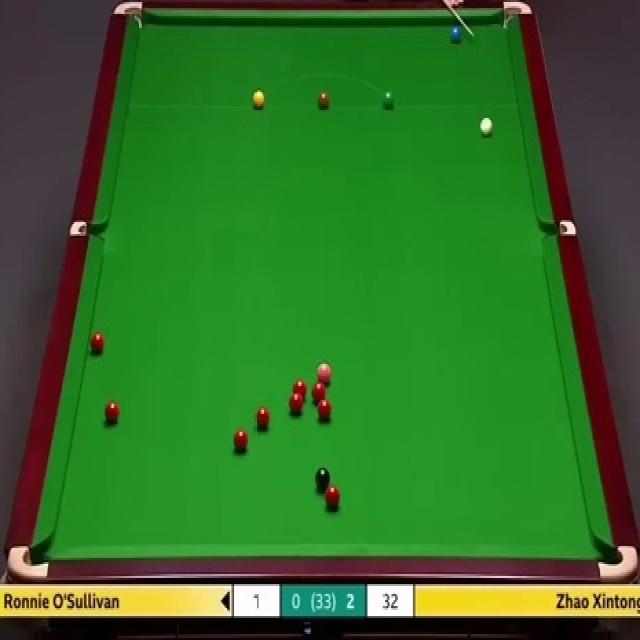pocket: (9, 542, 52, 580), (596, 544, 640, 578), (503, 0, 535, 32), (113, 0, 143, 29), (537, 222, 578, 236), (70, 221, 104, 237)
